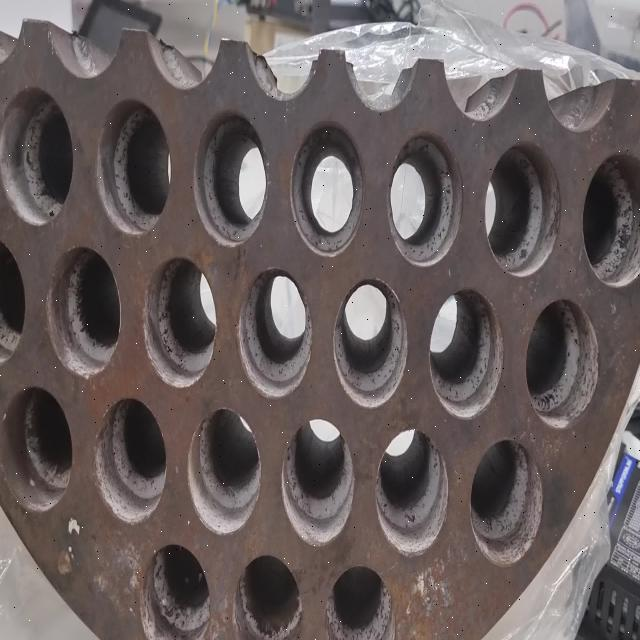Hole: (94, 98, 171, 235), (484, 141, 560, 277), (194, 109, 268, 248), (291, 118, 365, 257), (428, 286, 504, 420), (236, 268, 313, 399), (1, 88, 74, 226), (142, 255, 217, 389), (332, 278, 408, 410), (388, 132, 462, 266), (46, 245, 121, 377), (186, 406, 262, 536), (375, 426, 449, 558), (525, 297, 599, 429), (93, 396, 168, 524), (470, 438, 544, 566), (280, 418, 354, 546), (1, 384, 73, 512), (582, 151, 640, 288), (141, 542, 211, 640), (233, 552, 303, 640), (325, 564, 396, 640), (0, 237, 26, 367)
